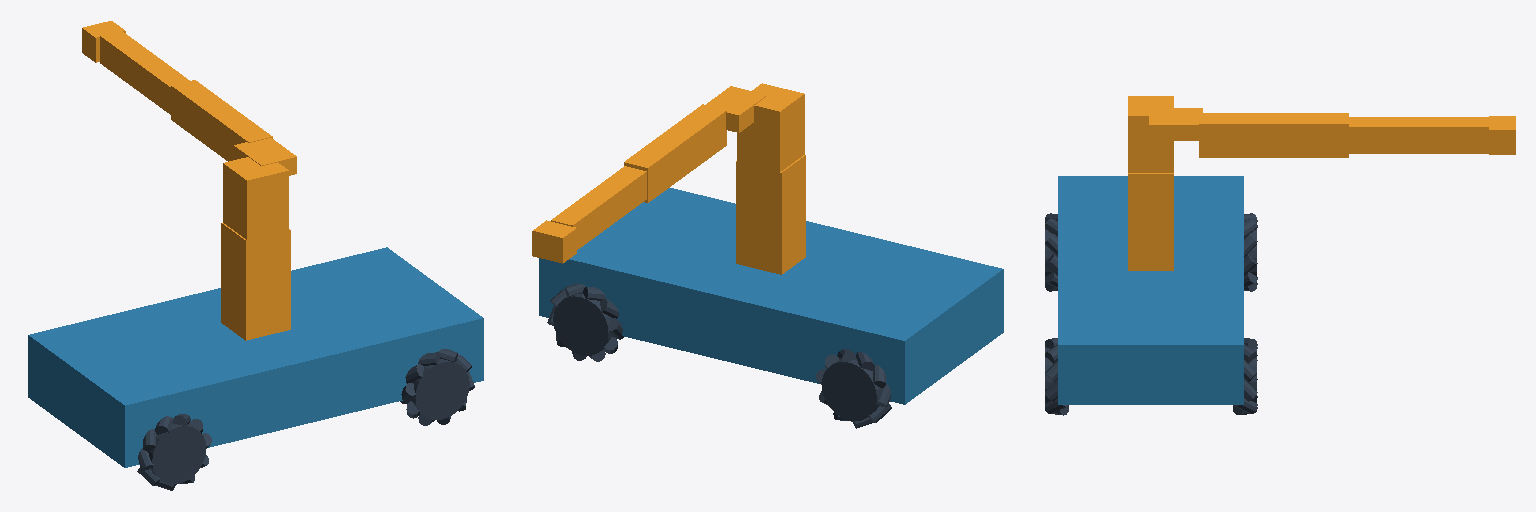
URDF robot description (mecanum_telescoping_arm):
<?xml version="1.0"?>
<robot name="mecanum_telescoping_arm">
  <material name="chassis_blue"><color rgba=".24 .56 .74 1"/></material>
  <material name="wheel_gray"><color rgba=".25 .30 .36 1"/></material>
  <material name="arm_gold"><color rgba="1 .67 .21 1"/></material>
  <link name="base">
    <collision><origin xyz="0 0 .20"/><geometry><box size="1.20 .56 .20"/></geometry></collision>
    <visual><origin xyz="0 0 .20"/><geometry><box size="1.20 .56 .20"/></geometry><material name="chassis_blue"/></visual>
  </link>
  <link name="wheel_fl">
    <collision><geometry><cylinder radius=".12" length=".09"/></geometry></collision>
    <visual><geometry><mesh filename="mecanum_left.obj"/></geometry><material name="wheel_gray"/></visual>
  </link>
  <link name="wheel_fr">
    <collision><geometry><cylinder radius=".12" length=".09"/></geometry></collision>
    <visual><geometry><mesh filename="mecanum_right.obj"/></geometry><material name="wheel_gray"/></visual>
  </link>
  <link name="wheel_rl">
    <collision><geometry><cylinder radius=".12" length=".09"/></geometry></collision>
    <visual><geometry><mesh filename="mecanum_right.obj"/></geometry><material name="wheel_gray"/></visual>
  </link>
  <link name="wheel_rr">
    <collision><geometry><cylinder radius=".12" length=".09"/></geometry></collision>
    <visual><geometry><mesh filename="mecanum_left.obj"/></geometry><material name="wheel_gray"/></visual>
  </link>
  <joint name="wheel_fl_mount" type="fixed"><parent link="base"/><child link="wheel_fl"/><origin xyz=".44 .283 .12" rpy="1.5707963267948966 0 0"/></joint>
  <joint name="wheel_fr_mount" type="fixed"><parent link="base"/><child link="wheel_fr"/><origin xyz=".44 -.283 .12" rpy="1.5707963267948966 0 0"/></joint>
  <joint name="wheel_rl_mount" type="fixed"><parent link="base"/><child link="wheel_rl"/><origin xyz="-.44 .283 .12" rpy="1.5707963267948966 0 0"/></joint>
  <joint name="wheel_rr_mount" type="fixed"><parent link="base"/><child link="wheel_rr"/><origin xyz="-.44 -.283 .12" rpy="1.5707963267948966 0 0"/></joint>
  <link name="mast">
    <collision><origin xyz="0 0 .19"/><geometry><box size=".15 .14 .38"/></geometry></collision>
    <visual><origin xyz="0 0 .19"/><geometry><box size=".15 .14 .38"/></geometry><material name="arm_gold"/></visual>
  </link>
  <joint name="mast_mount" type="fixed"><parent link="base"/><child link="mast"/><origin xyz="0 0 .24"/></joint>
  <link name="carriage">
    <collision><origin xyz="0 0 -.08"/><geometry><box size=".14 .14 .34"/></geometry></collision>
    <visual><origin xyz="0 0 -.08"/><geometry><box size=".14 .14 .34"/></geometry><material name="arm_gold"/></visual>
  </link>
  <joint name="lift" type="prismatic">
    <parent link="mast"/><child link="carriage"/><origin xyz="0 0 .26"/><axis xyz="0 0 1"/>
    <limit lower=".10" upper=".34" velocity=".22" effort="100"/>
  </joint>
  <link name="shoulder_mount">
    <collision><origin xyz="-.025 -.070 .025"/><geometry><box size=".12 .16 .055"/></geometry></collision>
    <visual><origin xyz="-.025 -.070 .025"/><geometry><box size=".12 .16 .055"/></geometry><material name="arm_gold"/></visual>
  </link>
  <joint name="shoulder_mount_fixed" type="fixed">
    <parent link="carriage"/><child link="shoulder_mount"/><origin xyz=".10 .145 .04"/>
  </joint>
  <link name="upper_arm">
    <collision><origin xyz=".225 0 0"/><geometry><box size=".45 .08 .11"/></geometry></collision>
    <visual><origin xyz=".225 0 0"/><geometry><box size=".45 .08 .11"/></geometry><material name="arm_gold"/></visual>
  </link>
  <joint name="shoulder" type="revolute">
    <parent link="shoulder_mount"/><child link="upper_arm"/><origin rpy="0 0 1.5707963267948966"/><axis xyz="0 0 1"/>
    <limit lower="-.20" upper="1.80" velocity="1.35" effort="30"/>
  </joint>
  <link name="forearm">
    <collision><origin xyz=".21 0 0"/><geometry><box size=".42 .072 .088"/></geometry></collision>
    <visual><origin xyz=".21 0 0"/><geometry><box size=".42 .072 .088"/></geometry><material name="arm_gold"/></visual>
  </link>
  <joint name="elbow" type="revolute">
    <parent link="upper_arm"/><child link="forearm"/><origin xyz=".45 0 0"/><axis xyz="0 0 1"/>
    <limit lower="-1.15" upper=".70" velocity="1.50" effort="20"/>
  </joint>
  <link name="gripper">
    <collision><origin xyz=".04 0 0"/><geometry><box size=".08 .10 .08"/></geometry></collision>
    <visual><origin xyz=".04 0 0"/><geometry><box size=".08 .10 .08"/></geometry><material name="arm_gold"/></visual>
  </link>
  <joint name="gripper_mount" type="fixed"><parent link="forearm"/><child link="gripper"/><origin xyz=".42 0 0"/></joint>
</robot>

--- Facts derived from the render (not from the file) ---
Views: 3 orthographic renders of the robot side by side, from view 1: azimuth 30°, elevation 25°; view 2: azimuth 150°, elevation 25°; view 3: azimuth 270°, elevation 25°.
Model mecanum_telescoping_arm with 11 links and 10 joints (2 revolute, 1 prismatic, 7 fixed), rooted at base, posed joints at zero except 1 at the middle of their limits (lift = 0.22).
Links seen in each view (by area): view 1: base, mast, carriage, upper_arm, wheel_rr, wheel_fr, forearm, shoulder_mount, gripper; view 2: base, carriage, mast, upper_arm, wheel_fl, wheel_rl, forearm, gripper, shoulder_mount; view 3: base, upper_arm, forearm, mast, carriage, shoulder_mount, wheel_fl, wheel_fr, gripper, wheel_rl, wheel_rr.
Boxes of the visible links, x1,y1,x2,y2 form: base: (28, 247, 483, 467); mast: (221, 223, 290, 340); carriage: (223, 157, 288, 285); upper_arm: (171, 80, 272, 161); wheel_rr: (137, 414, 211, 490); wheel_fr: (400, 349, 474, 425); forearm: (100, 30, 189, 114); shoulder_mount: (234, 138, 296, 175); gripper: (82, 21, 125, 62); base: (539, 188, 1003, 404); carriage: (737, 83, 804, 219); mast: (736, 155, 805, 274); upper_arm: (624, 104, 726, 202); wheel_fl: (547, 283, 623, 361); wheel_rl: (816, 349, 891, 428); forearm: (551, 166, 646, 249); gripper: (532, 220, 576, 263); shoulder_mount: (706, 86, 766, 132); base: (1058, 176, 1243, 404); upper_arm: (1199, 113, 1348, 157); forearm: (1349, 117, 1488, 153); mast: (1128, 173, 1173, 270); carriage: (1128, 96, 1173, 172); shoulder_mount: (1149, 108, 1202, 140); wheel_fl: (1233, 338, 1257, 414); wheel_fr: (1045, 338, 1068, 415); gripper: (1489, 116, 1515, 154); wheel_rl: (1244, 213, 1257, 291); wheel_rr: (1045, 213, 1057, 291).
Bounding box of the posed robot: 1.2 × 1.42 × 0.8123 m (x, y, z).
Meshes: 2 distinct files referenced, 4 mesh visuals loaded (2 OBJ).
